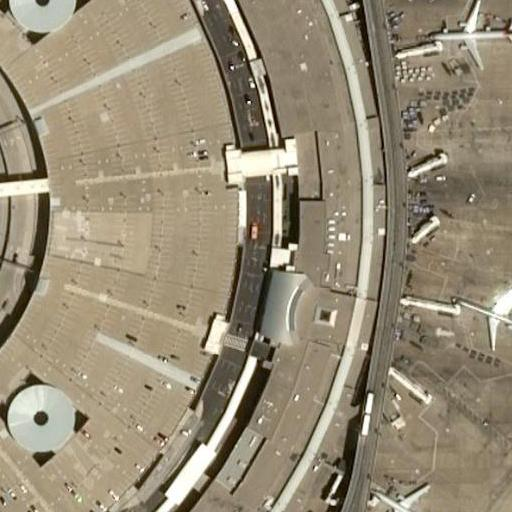Aircraft: (432, 0, 512, 65), (454, 274, 512, 350), (373, 477, 443, 512)
